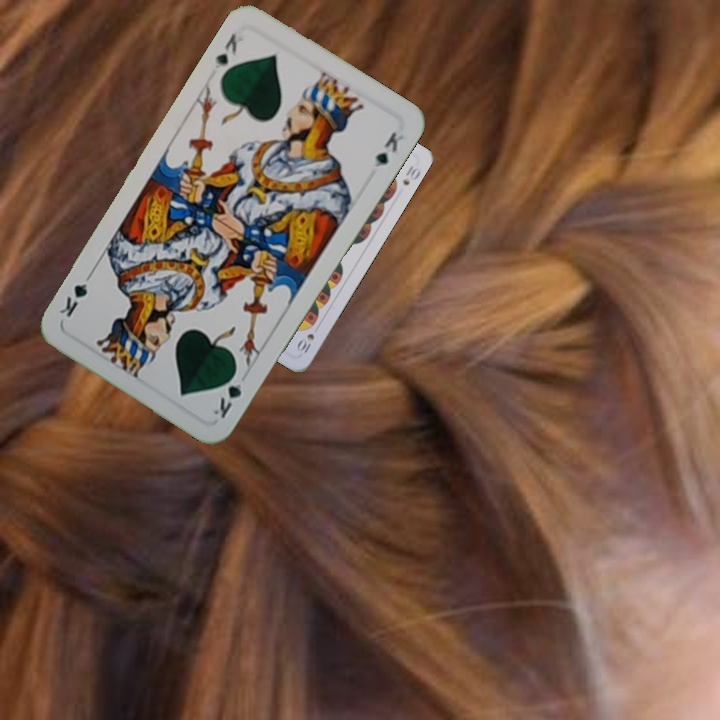GK: (209, 365, 246, 422), (210, 28, 246, 73)
S10: (292, 329, 317, 356)
